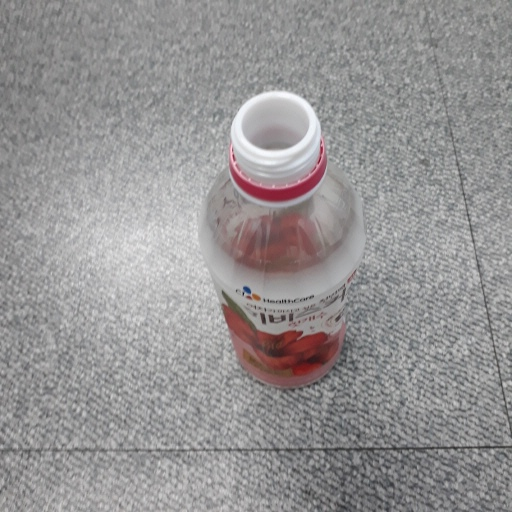Plastic_0: (195, 90, 366, 391)
